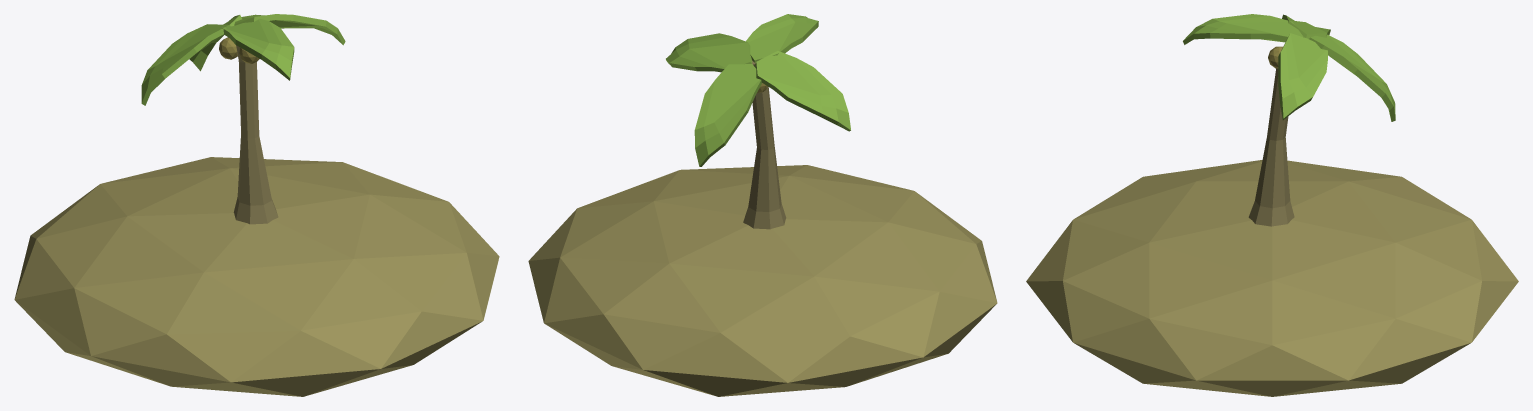
The model's file is Island.glb.
3 renders of one model, left to right at view 1: azimuth 30°, elevation 25°; view 2: azimuth 150°, elevation 25°; view 3: azimuth 270°, elevation 25°, orthographic. The views are drawn at different scales.
Visible parts, largest first — view 1: Icosphere, Plane, Cylinder; view 2: Icosphere, Plane, Cylinder; view 3: Icosphere, Plane, Cylinder.
Boxes of the visible parts, x1=… form: Icosphere: x1=14, y1=157, x2=499, y2=396; Plane: x1=141, y1=14, x2=345, y2=105; Cylinder: x1=233, y1=45, x2=278, y2=224; Icosphere: x1=528, y1=165, x2=997, y2=396; Plane: x1=666, y1=14, x2=850, y2=166; Cylinder: x1=743, y1=61, x2=786, y2=229; Icosphere: x1=1026, y1=160, x2=1518, y2=396; Plane: x1=1183, y1=14, x2=1395, y2=121; Cylinder: x1=1248, y1=68, x2=1294, y2=226.
Bounding box in the file's own units: 4.9 × 3.24 × 5.15.
